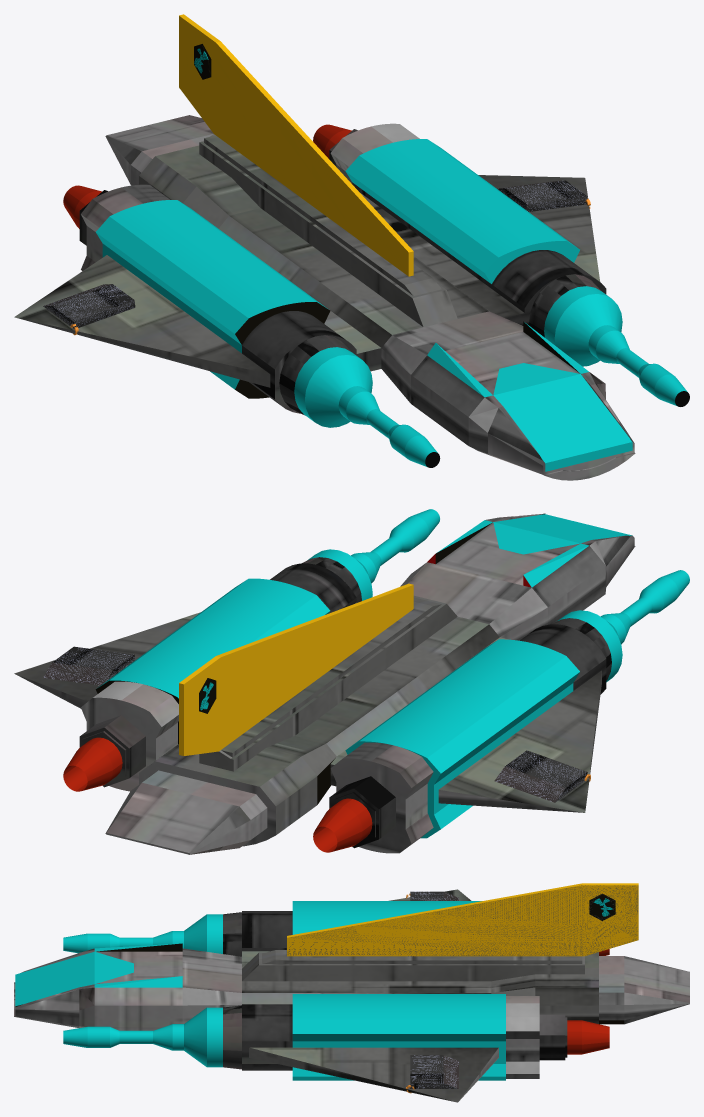
The model's file is Spaceship 2.fbx.
3 renders of one model, top to bottom at view 1: azimuth 30°, elevation 25°; view 2: azimuth 150°, elevation 25°; view 3: azimuth 270°, elevation 25°, orthographic. The views are drawn at different scales.
Visible parts, largest first — view 1: Group2, Group7, Group4, Group11; view 2: Group2, Group7, Group4, Group13, Group11; view 3: Group2, Group4, Group13, Group7.
Boxes of the visible parts, x1=… form: Group2: x1=14, y1=14, x2=689, y2=480; Group7: x1=43, y1=284, x2=135, y2=328; Group4: x1=497, y1=180, x2=587, y2=211; Group11: x1=63, y1=185, x2=101, y2=228; Group2: x1=14, y1=509, x2=689, y2=854; Group7: x1=494, y1=750, x2=587, y2=802; Group4: x1=43, y1=646, x2=134, y2=685; Group13: x1=63, y1=737, x2=122, y2=791; Group11: x1=313, y1=798, x2=372, y2=852; Group2: x1=14, y1=883, x2=689, y2=1102; Group4: x1=410, y1=1055, x2=458, y2=1088; Group13: x1=567, y1=1020, x2=609, y2=1054; Group7: x1=410, y1=891, x2=458, y2=900.
Size of the model in its own units: 10.58 by 3.25 by 14.18.
